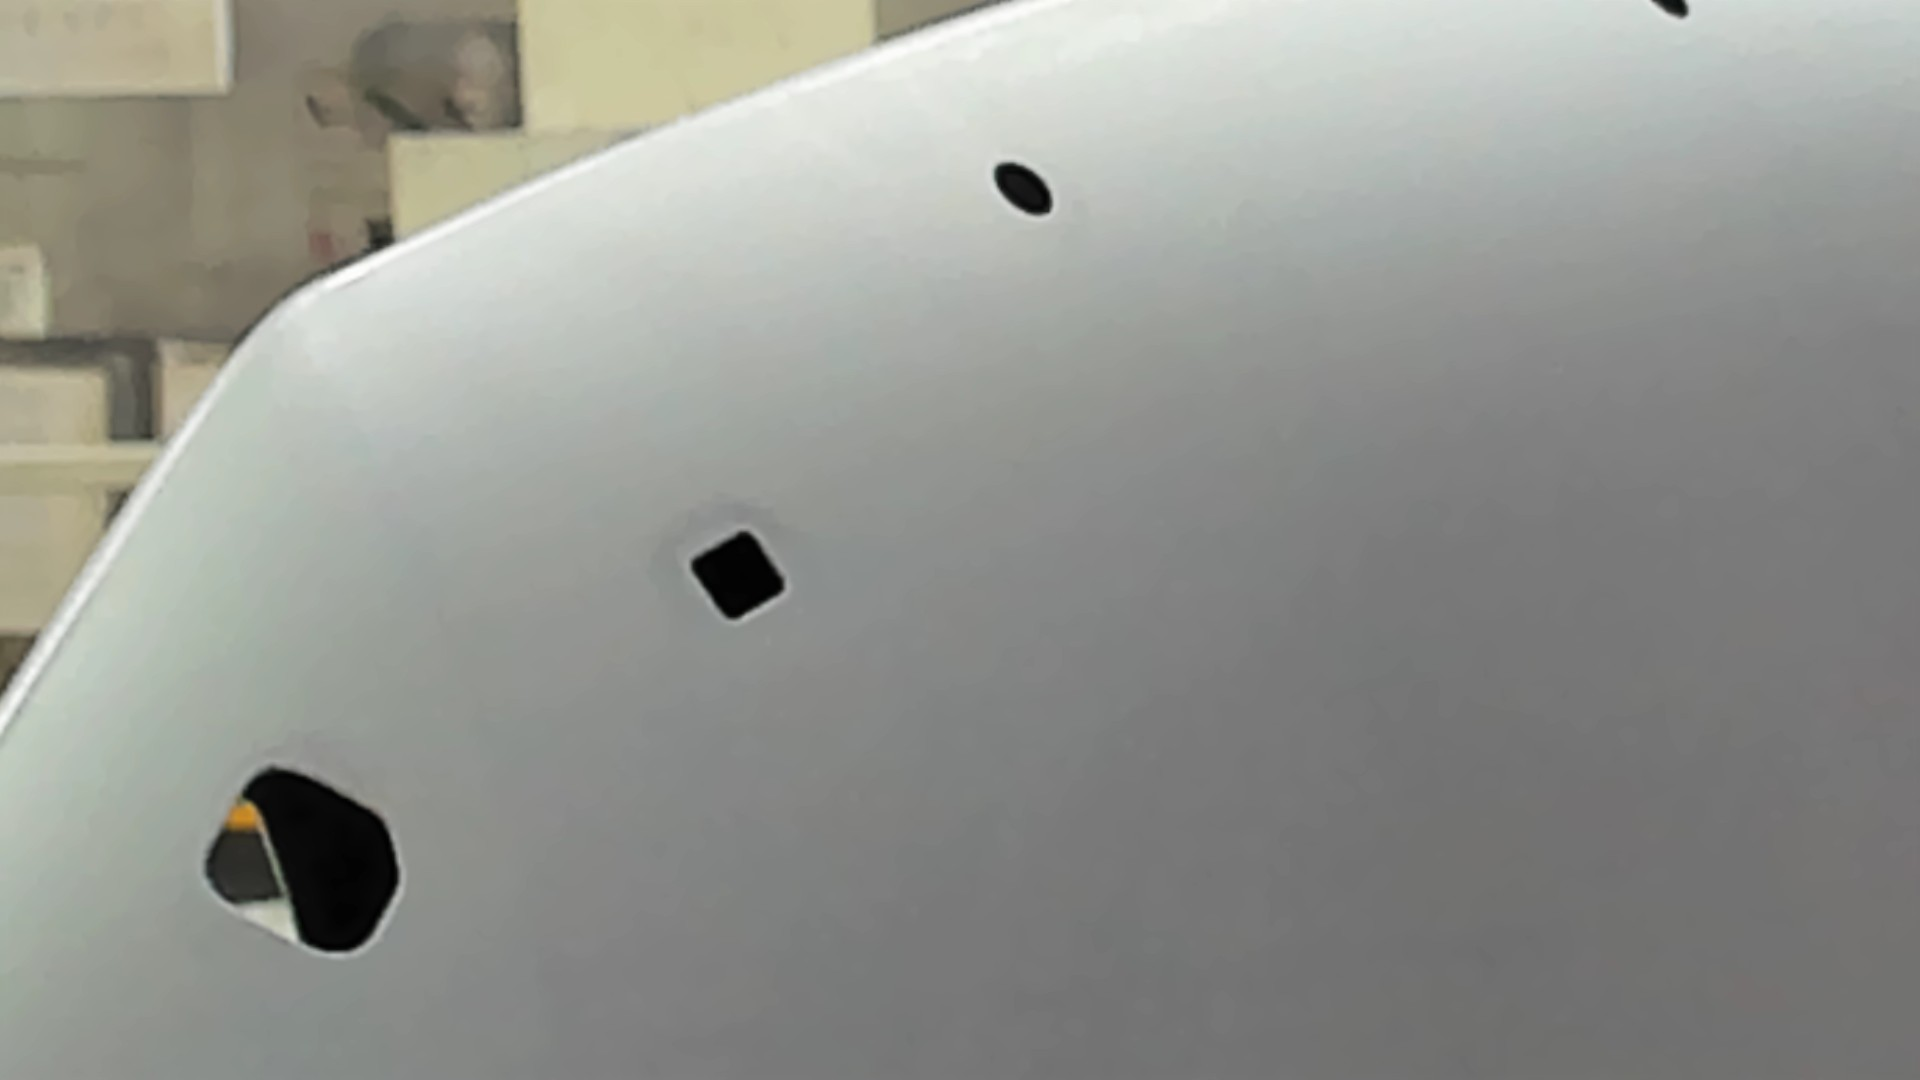capo: (811, 229, 1920, 1080)
chico: (989, 158, 1058, 224)
grande: (196, 754, 407, 968)
mediano: (684, 522, 796, 622)
